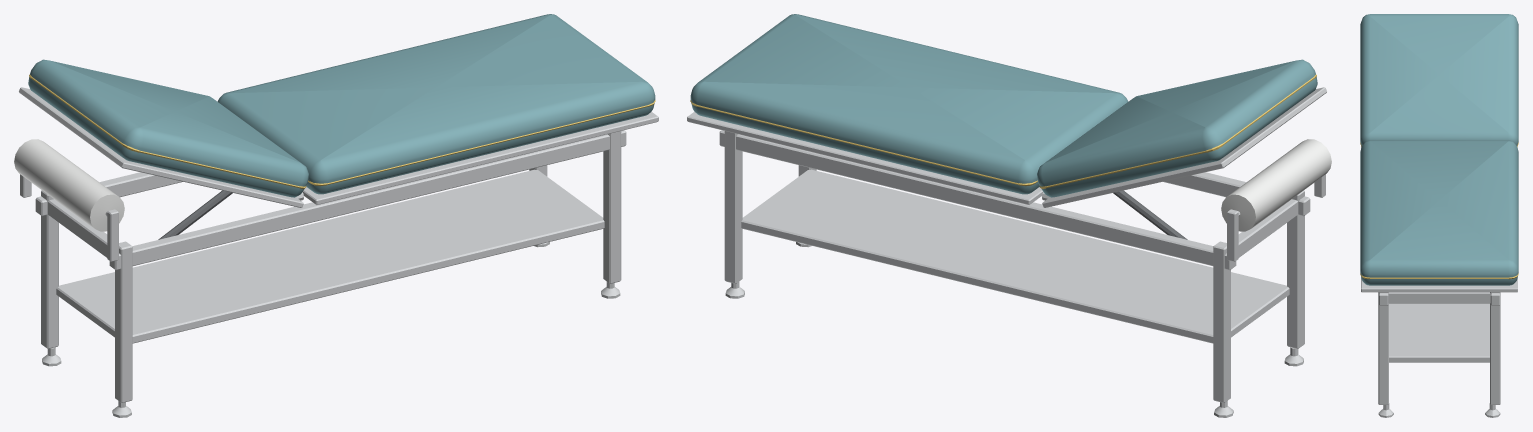
Rendered from medical-bed.glb.
3 views of the same model, side by side, from view 1: azimuth 30°, elevation 25°; view 2: azimuth 150°, elevation 25°; view 3: azimuth 270°, elevation 25° (orthographic). The views are drawn at different scales.
Parts seen in each view (by area): view 1: examination-couch; view 2: examination-couch; view 3: examination-couch.
Boxes of the visible parts, <box> form: examination-couch: <box>14,14,658,417</box>; examination-couch: <box>687,14,1331,417</box>; examination-couch: <box>1360,14,1518,417</box>.
Bounding box in the file's own units: 1.91 × 0.9628 × 0.6251.
